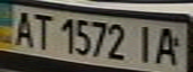1: (54, 16, 75, 54)
2: (106, 20, 130, 63)
5: (72, 17, 93, 56)
7: (87, 18, 109, 58)
A: (151, 24, 187, 67), (6, 8, 36, 48)
I: (130, 21, 160, 64)
T: (30, 11, 57, 51)
